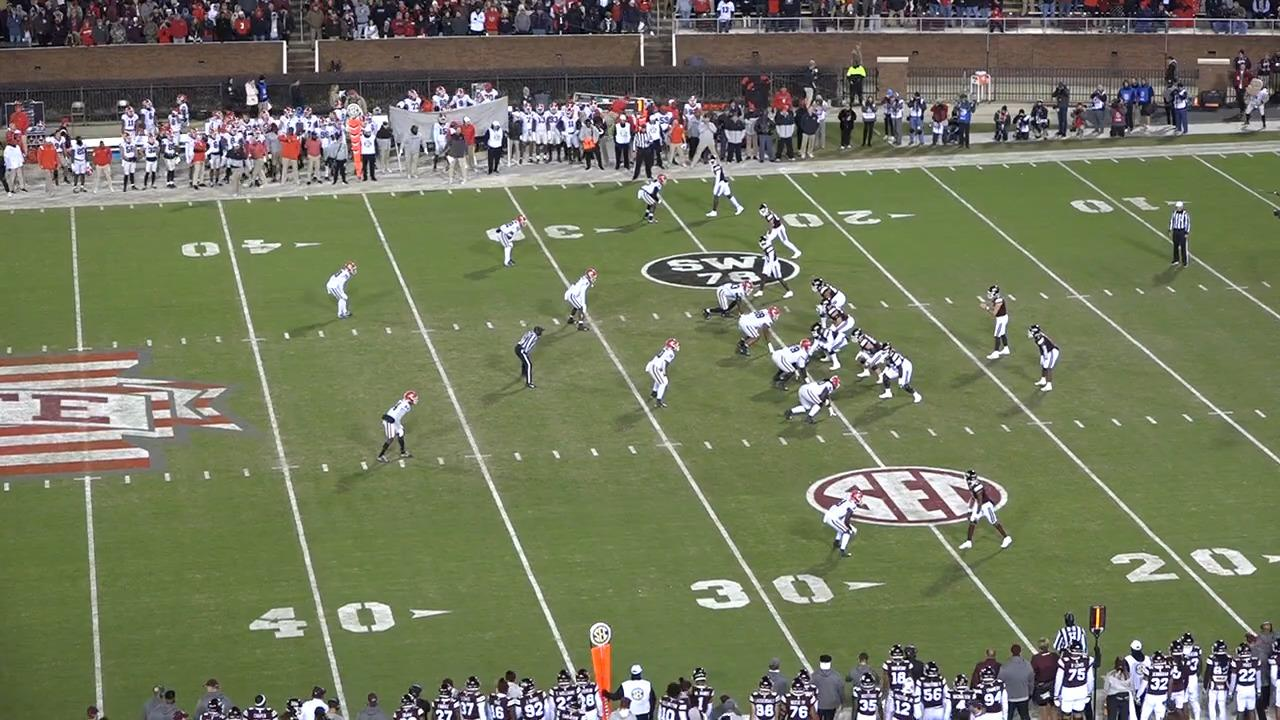player: (951, 467, 1012, 557), (374, 390, 418, 466), (820, 487, 861, 561), (878, 343, 926, 406), (786, 374, 844, 425), (751, 236, 794, 302), (758, 203, 803, 263), (977, 282, 1008, 364), (650, 336, 683, 411), (711, 159, 750, 222), (735, 307, 781, 360), (1031, 326, 1065, 397), (771, 341, 816, 394), (700, 278, 754, 320), (852, 328, 891, 386), (568, 265, 601, 332), (329, 260, 362, 321), (805, 323, 842, 372), (492, 213, 523, 268), (640, 170, 670, 224), (819, 301, 858, 342), (812, 276, 847, 307)
ref: (629, 119, 666, 180), (1165, 202, 1195, 271), (510, 326, 539, 393), (1049, 607, 1084, 659)
